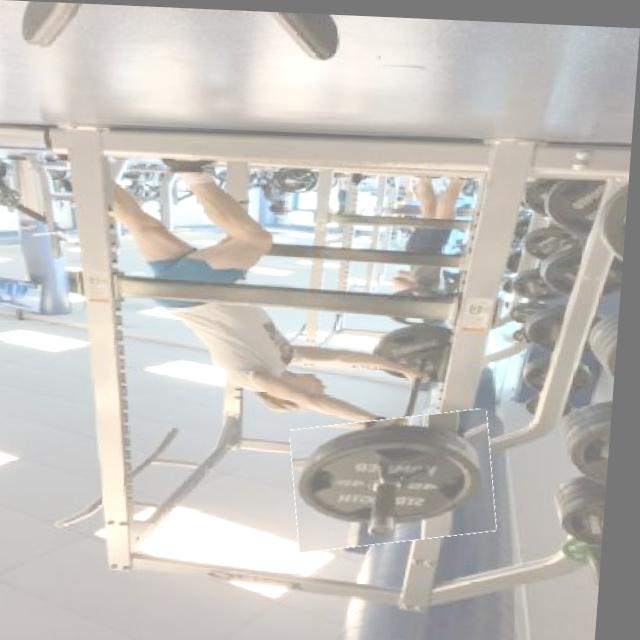barbell: (295, 405, 508, 550)
